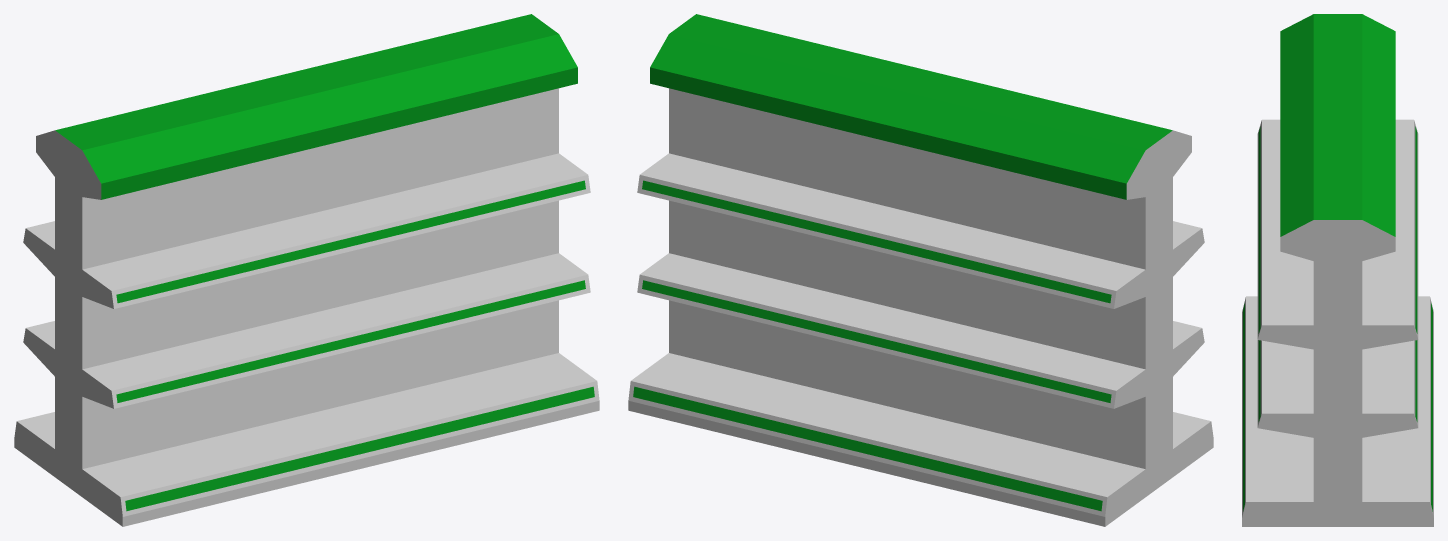
File: shelf_2.fbx
3 views of the same model, side by side, from view 1: azimuth 30°, elevation 25°; view 2: azimuth 150°, elevation 25°; view 3: azimuth 270°, elevation 25° (orthographic). The views are drawn at different scales.
Visible parts, largest first — view 1: shelf2; view 2: shelf2; view 3: shelf2.
Boxes of the visible parts, x1,y1,x2,y2 form: shelf2: (14,14,599,526); shelf2: (628,14,1213,526); shelf2: (1242,14,1433,526).
Size of the model in its own units: 500 by 348 by 197.
